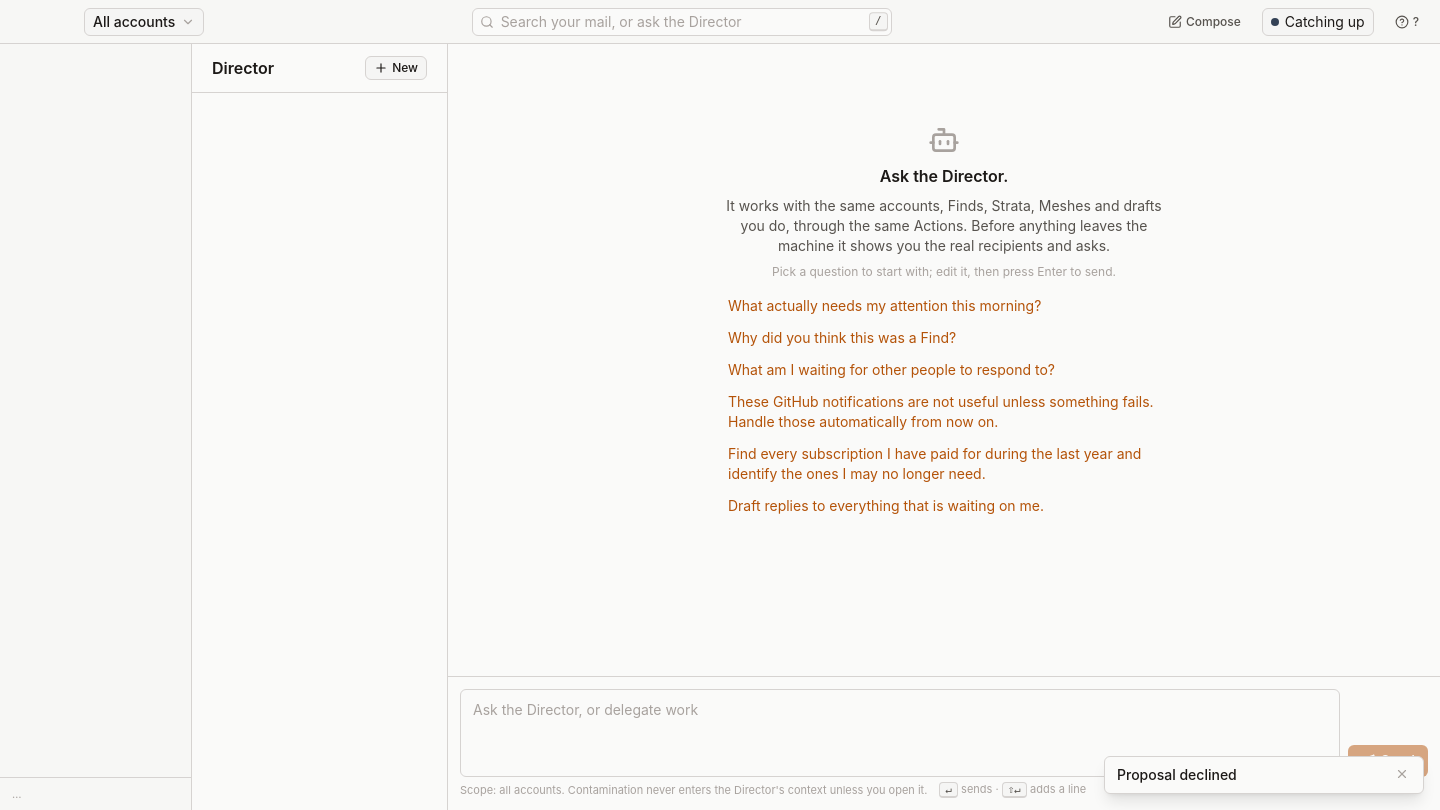
the Director page › a suggestion prefills the composer and sends nothing
Click the button "What am I waiting for other people to respond to?". click: (892, 370)
box: [720,356,1063,384]
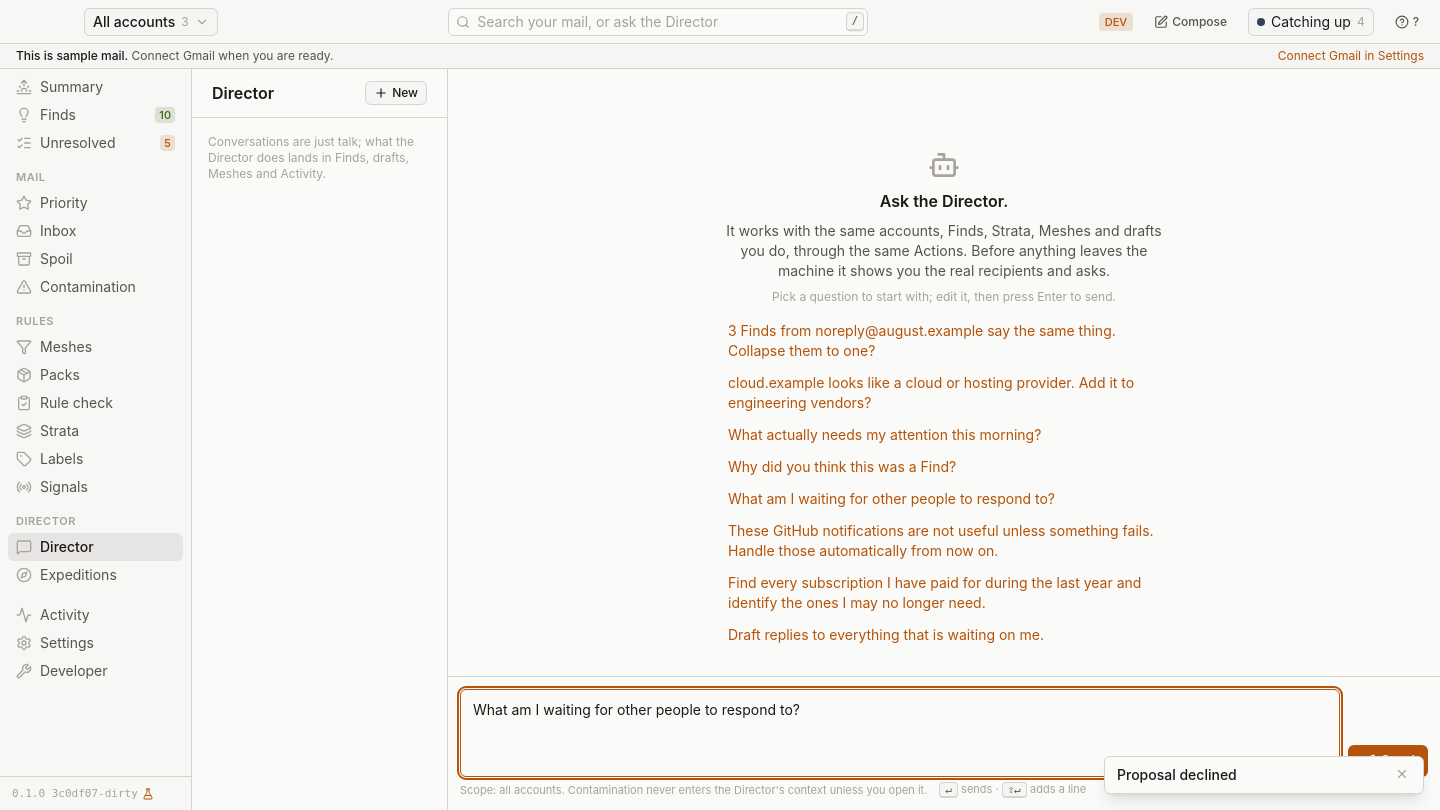
Check: the text "Scope: all accounts" is shown, box [460,782,927,798]
Check: the text box named "Message to the Director" holds "What am I waiting for other people to respond to?", box [460,689,1340,777]
Check: the text "Conversations are just talk; what the Director does lands in Finds, drafts, Meshes and Activity." is shown, box [208,134,414,181]
